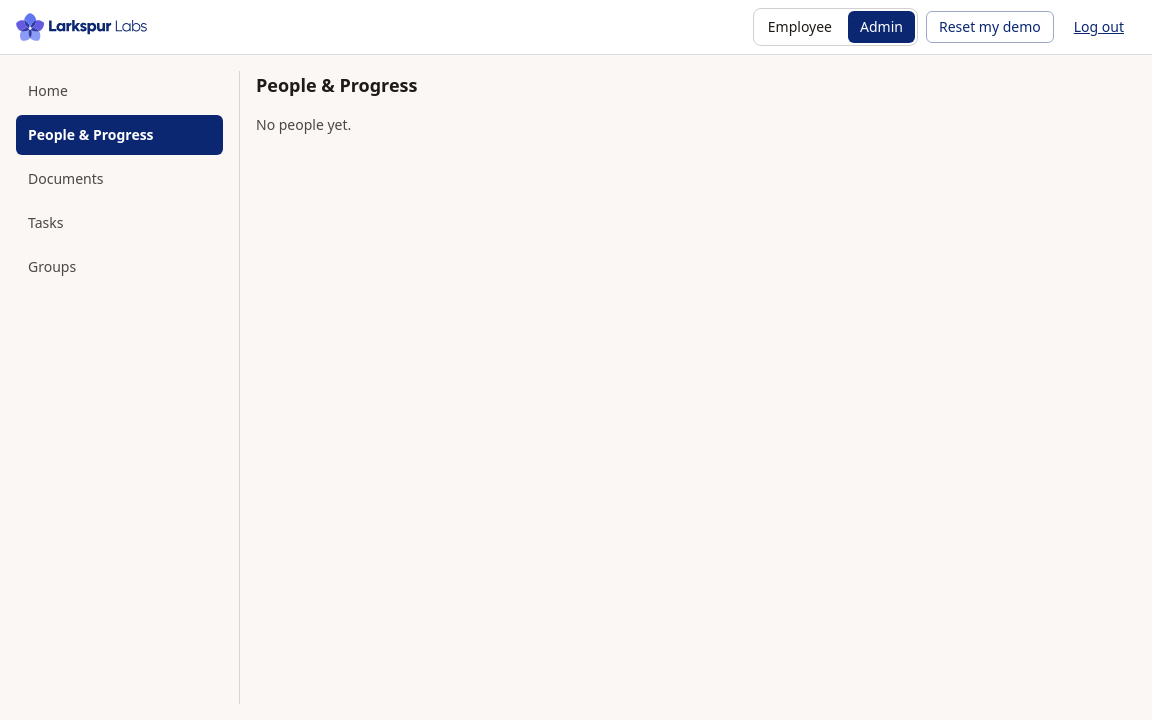
Scenario: Admin shell › vertical tabs Home, People & Progress, Documents, Tasks, Groups; URL follows selection
Click the tab "Tasks".
click(120, 223)  # box left=16, top=203, right=223, bottom=243
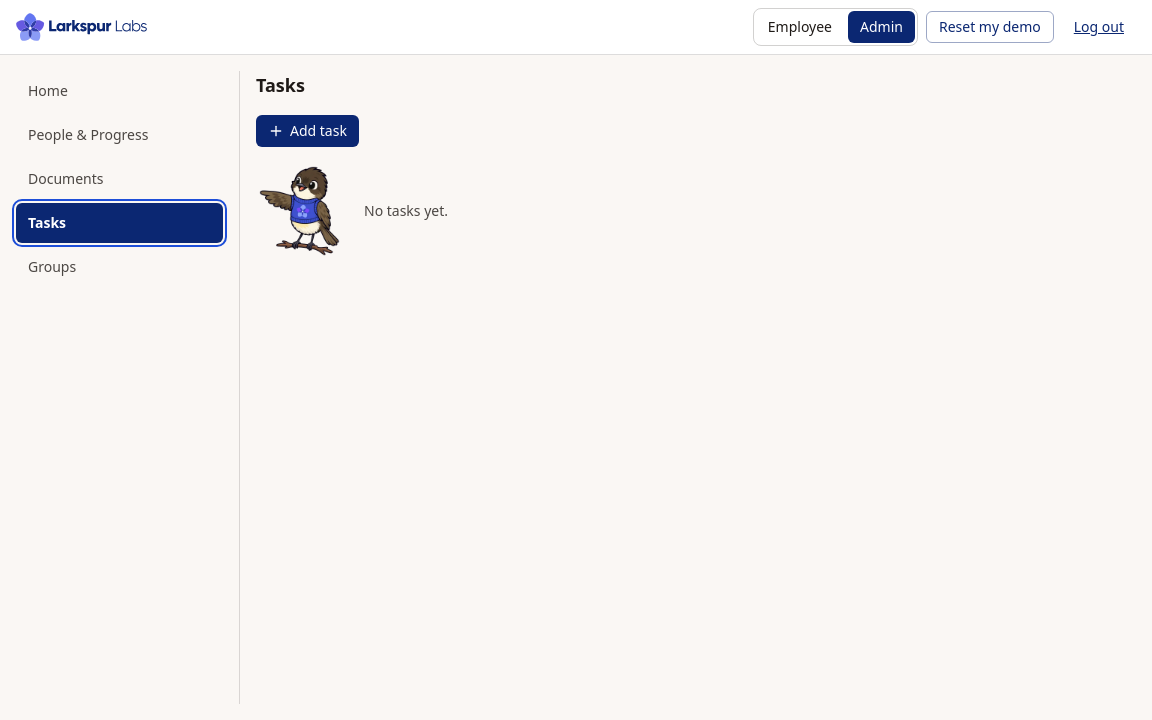
Expected: the panel "Tasks" is shown, left=256, top=73, right=448, bottom=259
